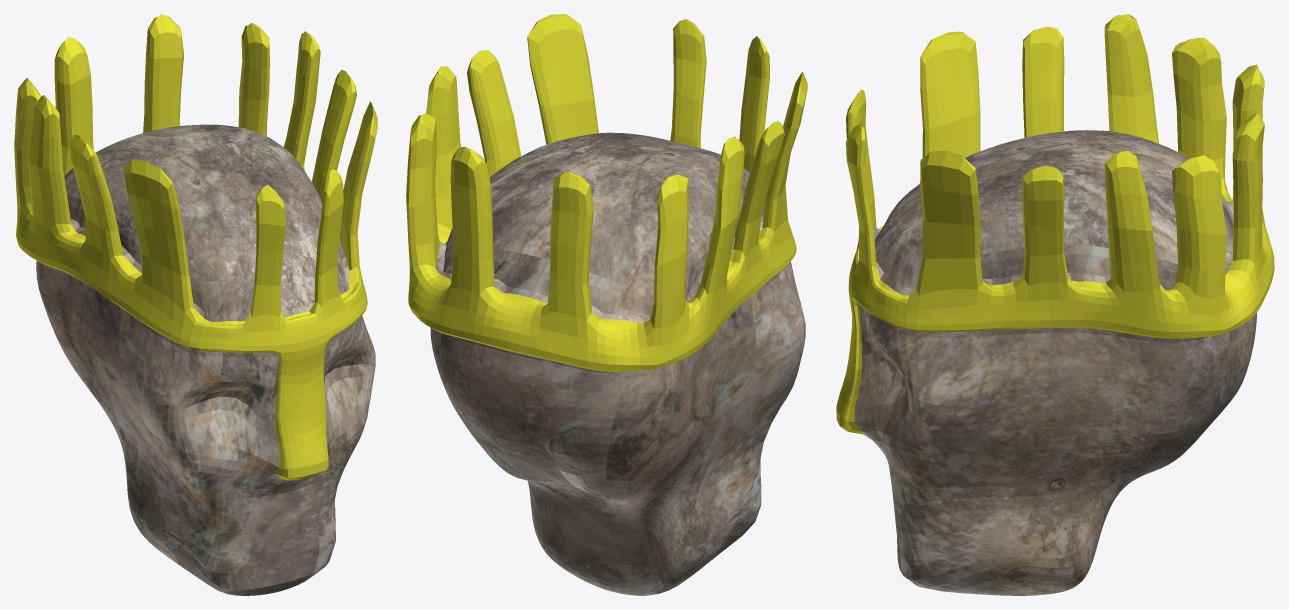
The model's file is EmperorHead.fbx.
3 renders of one model, left to right at view 1: azimuth 30°, elevation 25°; view 2: azimuth 150°, elevation 25°; view 3: azimuth 270°, elevation 25°, orthographic. The views are drawn at different scales.
Visible parts, largest first — view 1: Roundcube; view 2: Roundcube; view 3: Roundcube.
Part boxes in pixels (x1,y1,x2,y2): Roundcube: [14, 14, 377, 595]; Roundcube: [406, 14, 807, 595]; Roundcube: [836, 14, 1274, 595].
Bounding box in the file's own units: 0.2404 × 0.307 × 0.3919.
